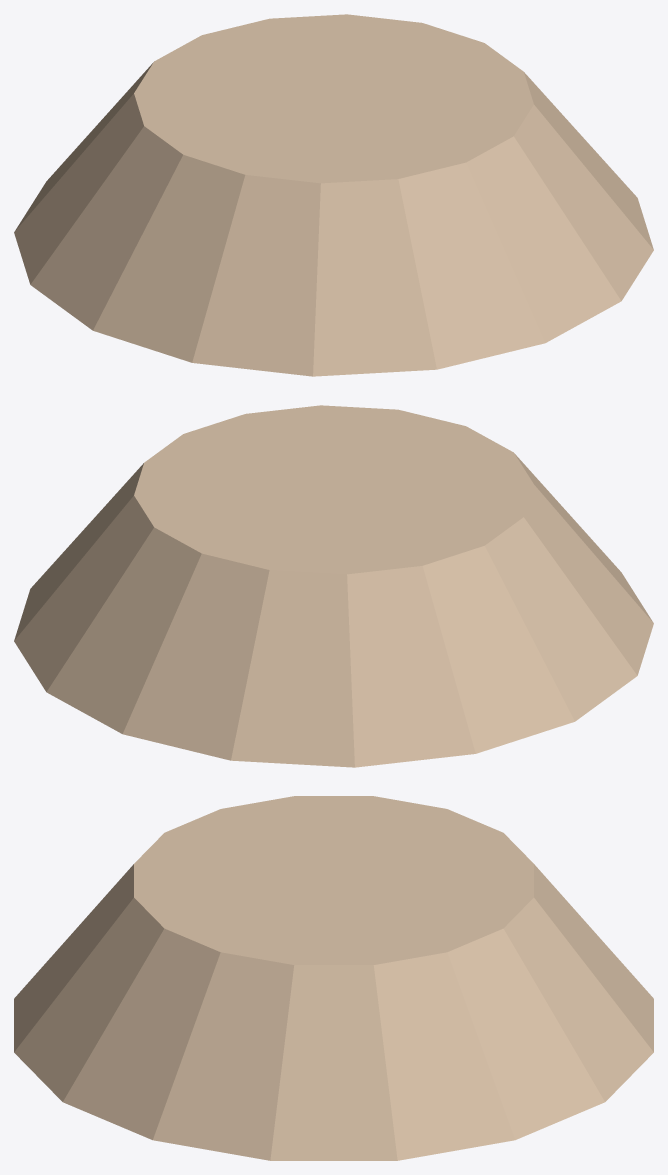
File: s0p5collider.obj
3 renders of one model, top to bottom at view 1: azimuth 30°, elevation 25°; view 2: azimuth 150°, elevation 25°; view 3: azimuth 270°, elevation 25°, orthographic.
Parts seen in each view (by area): view 1: c; view 2: c; view 3: c.
Boxes of the visible parts, bbox=[...] form: c: bbox=[14, 14, 653, 376]; c: bbox=[14, 405, 653, 767]; c: bbox=[14, 796, 653, 1160].
Bounding box in the file's own units: 1.5 × 0.375 × 1.5.
